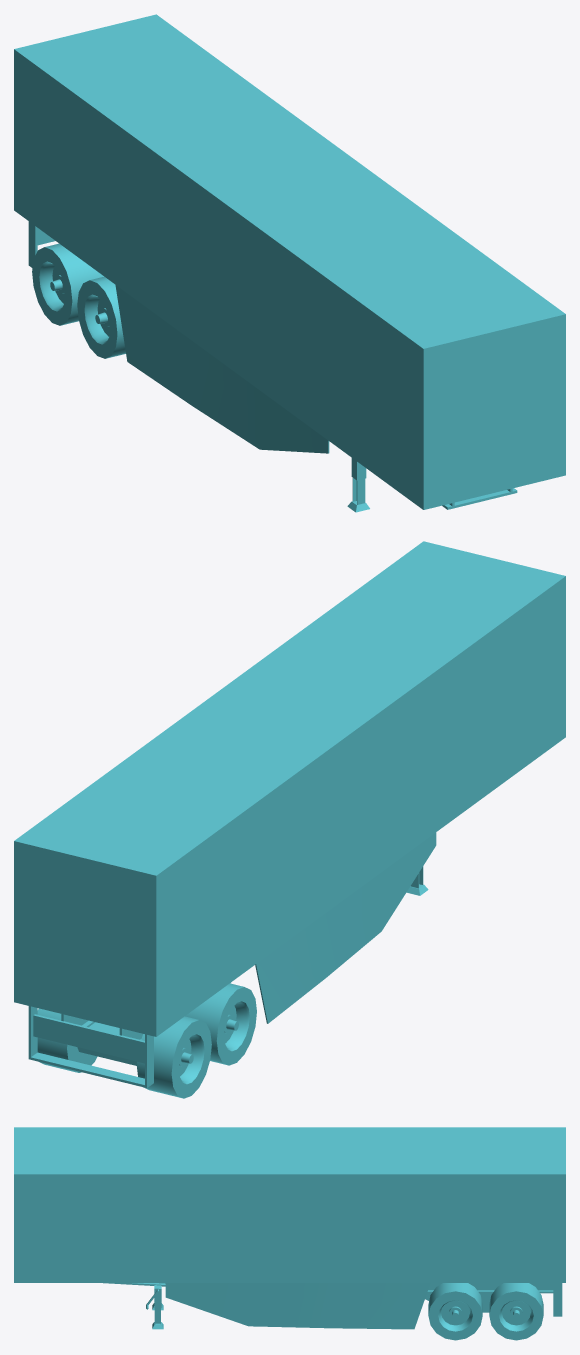
The model's file is Semi_Trailer_low.FBX.
3 views of the same model, one above another, from view 1: azimuth 30°, elevation 25°; view 2: azimuth 150°, elevation 25°; view 3: azimuth 270°, elevation 25° (orthographic). The views are drawn at different scales.
Parts seen in each view (by area): view 1: Container_low; view 2: Container_low; view 3: Container_low.
Boxes of the visible parts, <box> form: Container_low: <box>14,14,565,512</box>; Container_low: <box>14,541,565,1098</box>; Container_low: <box>14,1127,565,1340</box>.
Size of the model in its own units: 245 by 406 by 1220.
